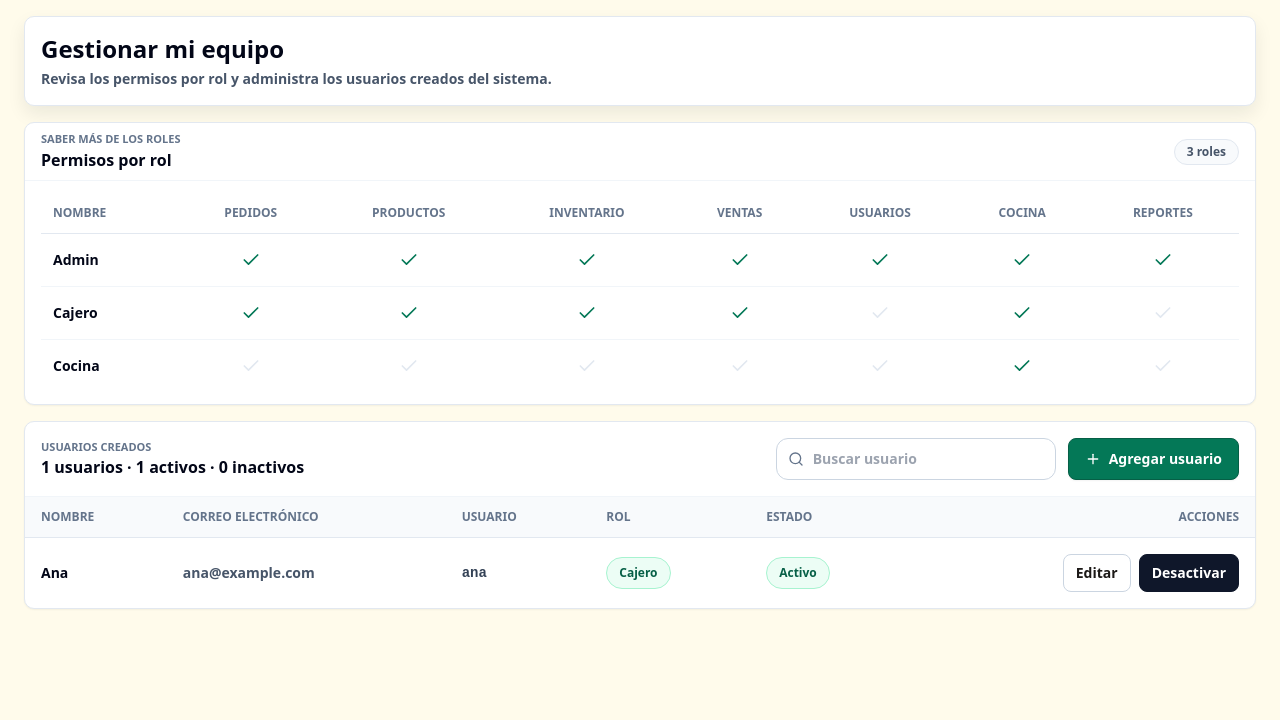
Test: gestión de usuarios › informa al desactivar y volver a activar un usuario
What coordinates should you click on to do the following:
click the button "Desactivar"
I would click on:
 (1189, 573)
Its box is 1139,554 -> 1239,592.
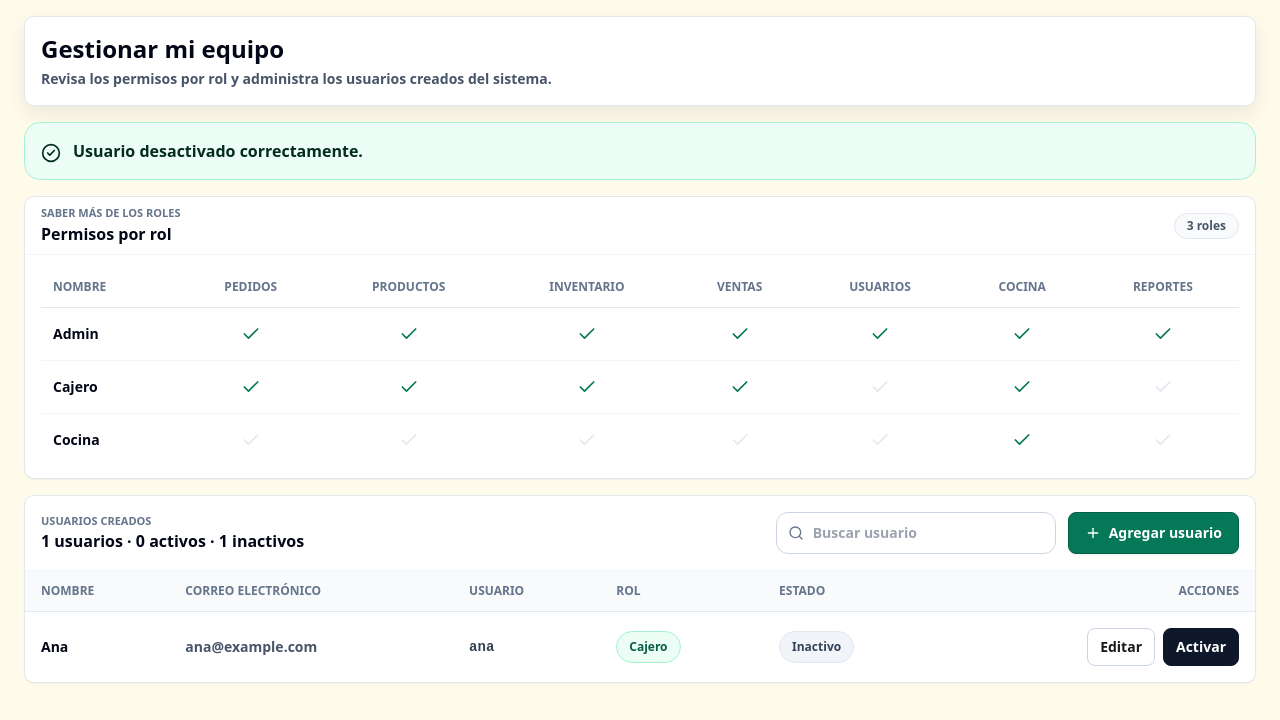
Result: the text "Usuario desactivado correctamente." is shown at 73,139 -> 363,163
What coordinates should you click on to do the following:
click the button "Activar"
I would click on:
 (1201, 647)
Its box is 1163,628 -> 1239,666.
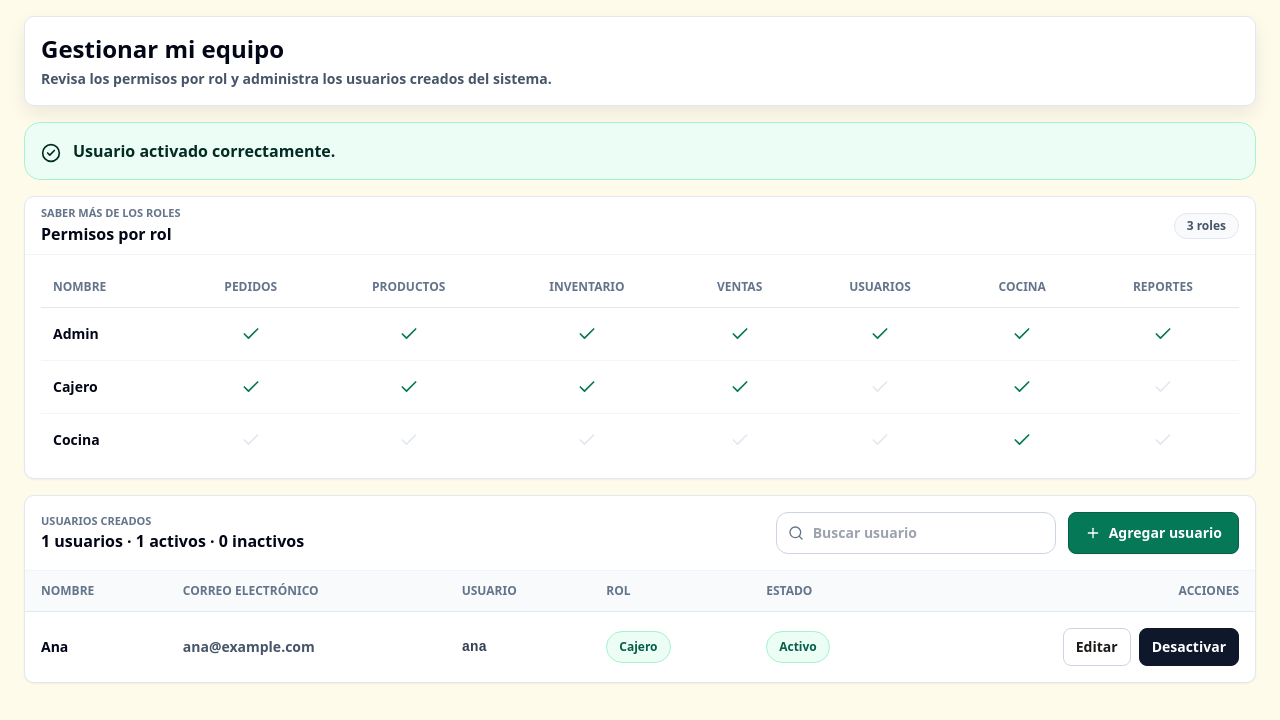
Result: the text "Usuario activado correctamente." is shown at 73,139 -> 335,163
